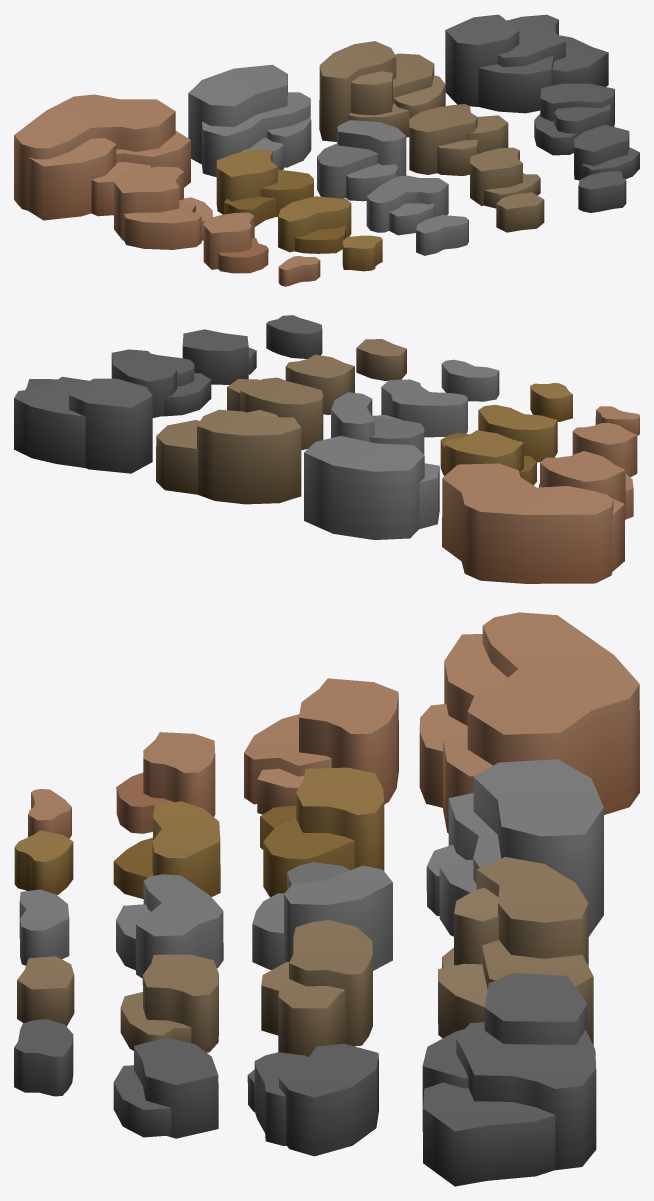
File: cliffs.glb
3 renders of one model, top to bottom at view 1: azimuth 30°, elevation 25°; view 2: azimuth 150°, elevation 25°; view 3: azimuth 270°, elevation 25°, orthographic. The views are drawn at different scales.
Parts seen in each view (by area): view 1: Plane.038, Plane.023, Plane.033, Plane.026, Plane.036, Plane.048, Plane.015, Plane.018, Plane.058, Plane.046, Plane.045, Plane.043 (+7 smaller); view 2: Plane.038, Plane.033, Plane.026, Plane.023, Plane.058, Plane.015, Plane.046, Plane.036, Plane.048, Plane.005, Plane.018, Plane.045 (+7 smaller); view 3: Plane.038, Plane.023, Plane.033, Plane.026, Plane.036, Plane.015, Plane.058, Plane.018, Plane.048, Plane.005, Plane.046, Plane.052 (+7 smaller).
Boxes of the visible parts, x1=… form: Plane.038: x1=14, y1=94, x2=190, y2=220; Plane.023: x1=445, y1=14, x2=608, y2=113; Plane.033: x1=188, y1=64, x2=311, y2=177; Plane.026: x1=319, y1=41, x2=445, y2=141; Plane.036: x1=114, y1=166, x2=212, y2=249; Plane.048: x1=317, y1=120, x2=406, y2=201; Plane.015: x1=409, y1=104, x2=508, y2=175; Plane.018: x1=216, y1=149, x2=313, y2=226; Plane.058: x1=534, y1=83, x2=614, y2=155; Plane.046: x1=366, y1=175, x2=448, y2=235; Plane.045: x1=278, y1=196, x2=351, y2=253; Plane.043: x1=203, y1=212, x2=268, y2=273; Plane.038: x1=442, y1=463, x2=624, y2=583; Plane.033: x1=304, y1=436, x2=439, y2=539; Plane.026: x1=156, y1=409, x2=301, y2=504; Plane.023: x1=14, y1=376, x2=152, y2=473; Plane.058: x1=111, y1=349, x2=211, y2=417; Plane.015: x1=227, y1=377, x2=323, y2=449; Plane.046: x1=381, y1=379, x2=467, y2=437; Plane.036: x1=539, y1=451, x2=633, y2=520; Plane.048: x1=331, y1=392, x2=424, y2=454; Plane.005: x1=182, y1=329, x2=256, y2=384; Plane.018: x1=440, y1=430, x2=536, y2=485; Plane.045: x1=478, y1=404, x2=557, y2=462; Plane.038: x1=419, y1=612, x2=639, y2=833; Plane.023: x1=422, y1=973, x2=596, y2=1186; Plane.033: x1=426, y1=759, x2=603, y2=936; Plane.026: x1=438, y1=857, x2=593, y2=1045; Plane.036: x1=244, y1=678, x2=398, y2=814; Plane.015: x1=261, y1=920, x2=372, y2=1057; Plane.058: x1=247, y1=1043, x2=378, y2=1156; Plane.018: x1=260, y1=767, x2=384, y2=897; Plane.048: x1=252, y1=862, x2=392, y2=970; Plane.005: x1=113, y1=1037, x2=218, y2=1138; Plane.046: x1=116, y1=874, x2=223, y2=978; Plane.052: x1=120, y1=954, x2=218, y2=1052.
Bounding box in the file's own units: 8.06 × 0.9195 × 4.59.
1 material, 1 textured.
